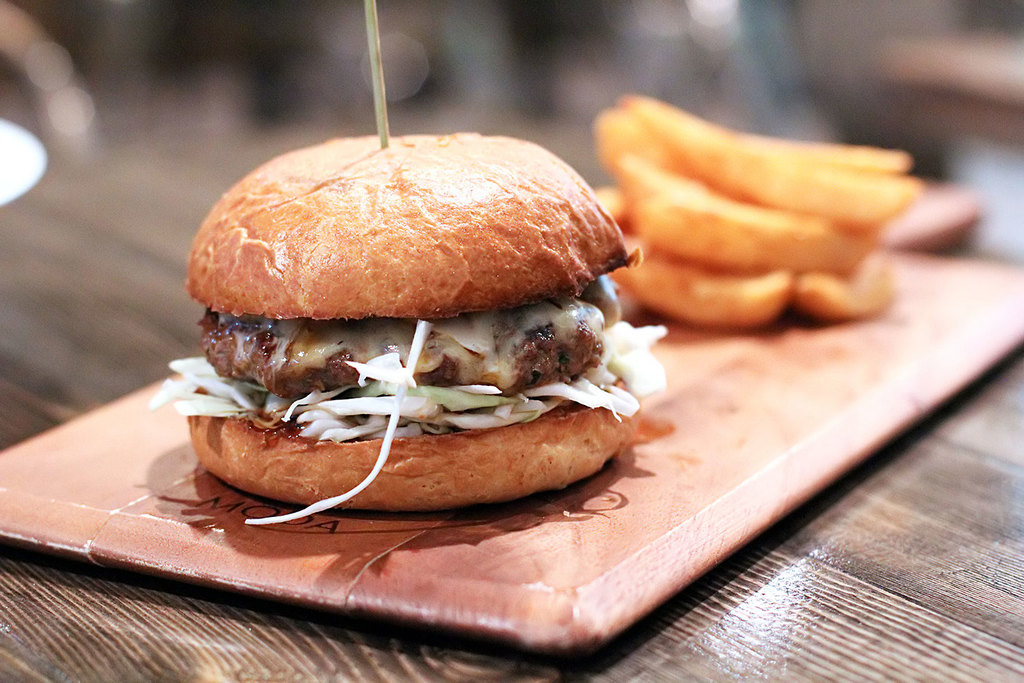hamburger: (146, 130, 670, 527)
